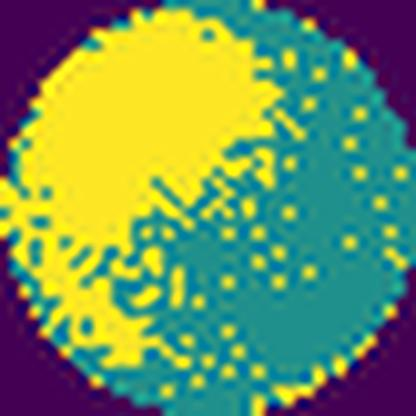Edge-Loc: (0, 0, 293, 376)
